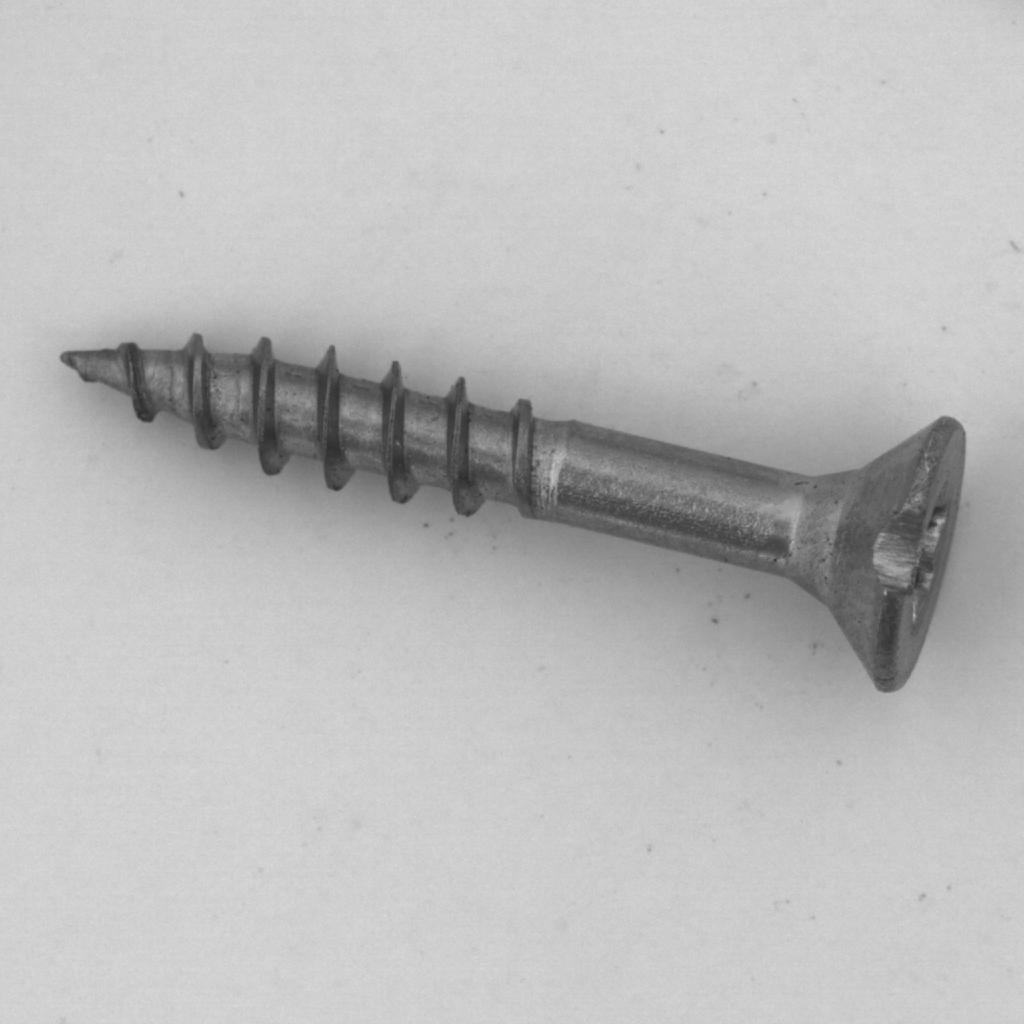scratch_neck: (88, 166, 945, 881)
